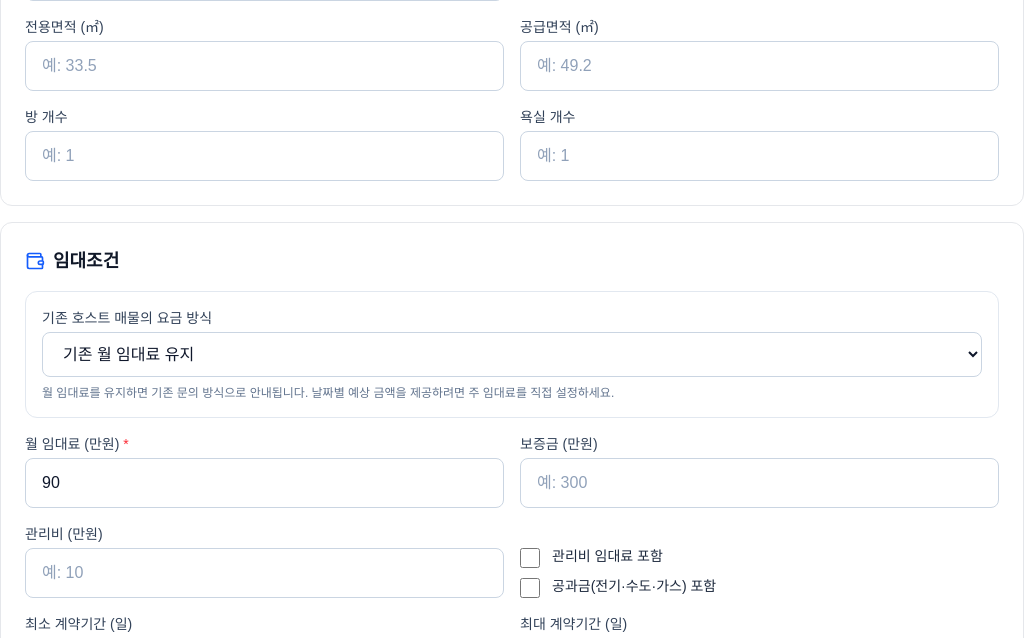
Test case: registration pricing separation › keeps a legacy monthly host price until the host explicitly switches
(page scrolled)
Expected: the field labelled "월 임대료 (만원) *" holds "90", x1=25 y1=458 x2=504 y2=508
Expected: the field labelled "주 임대료 · 7일" is not shown
Select "주 임대료로 전환" in the dropdown labelled "기존 호스트 매물의 요금 방식". click: (512, 354)
box: x1=42 y1=332 x2=982 y2=377
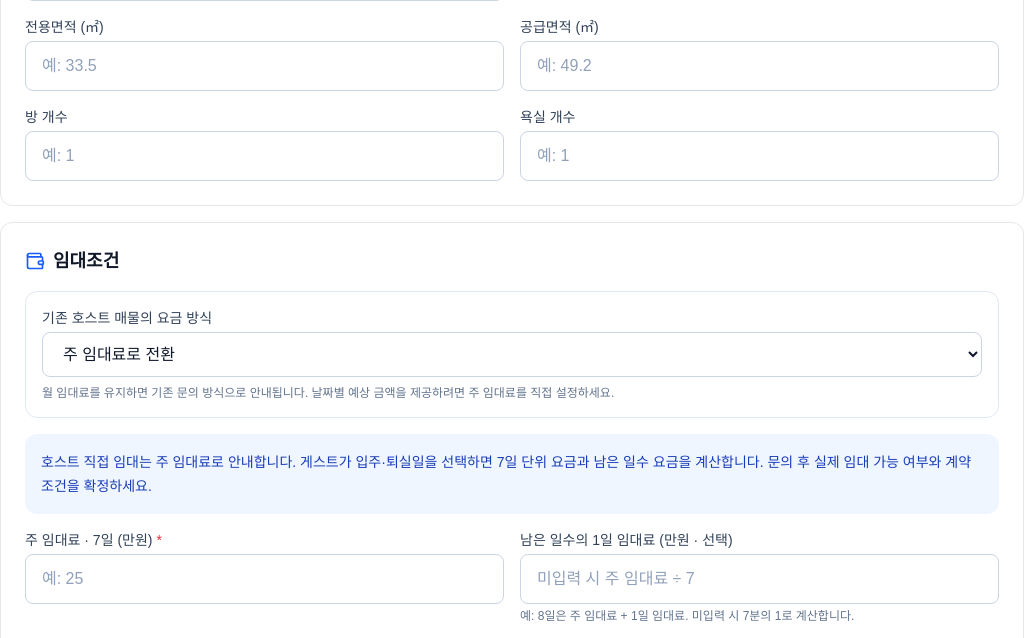
Now the field labelled "주 임대료 · 7일 (만원) *" is empty, box x1=25 y1=554 x2=504 y2=604
Now the label labelled "월 임대료 (만원)" is gone
Select "기존 월 임대료 유지" in the dropdown labelled "기존 호스트 매물의 요금 방식". click: (512, 354)
box: x1=42 y1=332 x2=982 y2=377
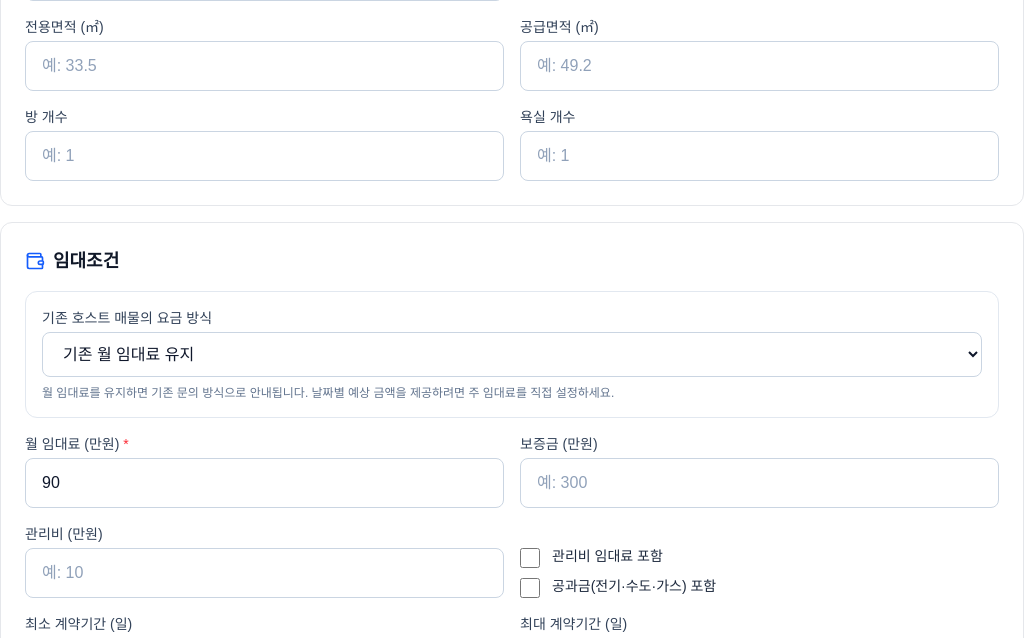
Now the field labelled "월 임대료 (만원) *" holds "90", box x1=25 y1=458 x2=504 y2=508
